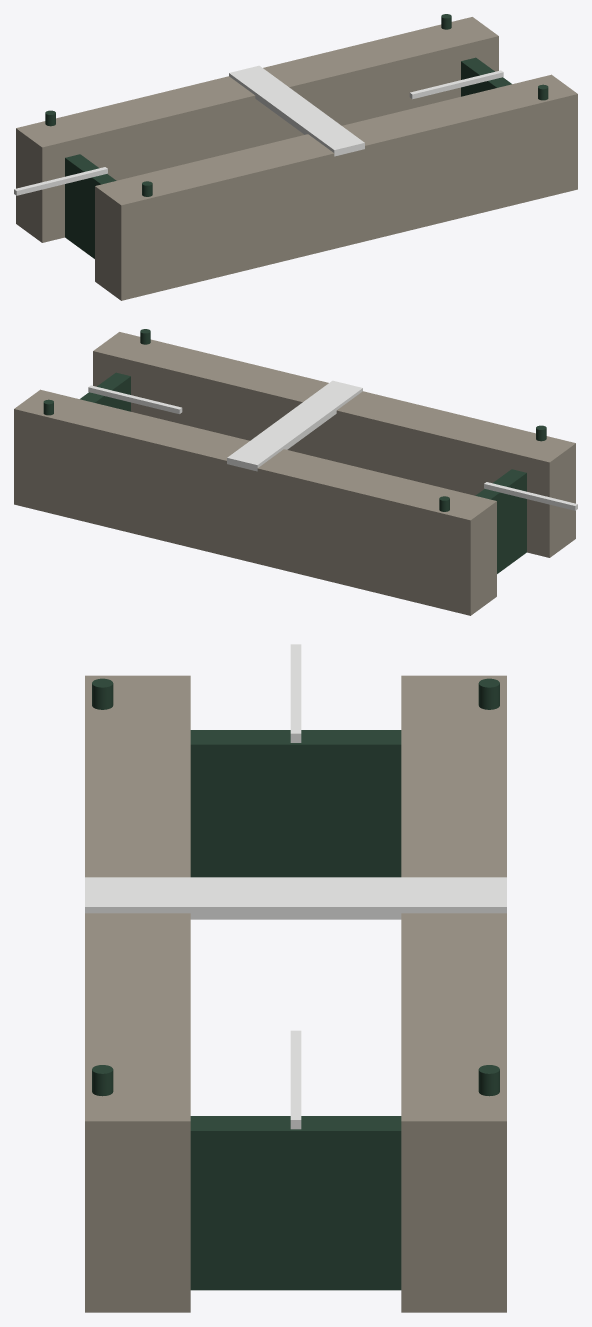
File: d-nl-04-canal-lock.glb
3 renders of one model, top to bottom at view 1: azimuth 30°, elevation 25°; view 2: azimuth 150°, elevation 25°; view 3: azimuth 270°, elevation 25°, orthographic. The views are drawn at different scales.
Parts seen in each view (by area): view 1: part0, part1, part6, part2, part4, part5, part3; view 2: part1, part0, part6, part2, part4, part5, part3; view 3: part0, part1, part4, part2, part6, part5, part3.
Part boxes in pixels (x1=…): part0: x1=95, y1=74, x2=577, y2=300; part1: x1=16, y1=17, x2=498, y2=242; part6: x1=229, y1=65, x2=364, y2=156; part2: x1=65, y1=154, x2=116, y2=258; part4: x1=461, y1=57, x2=511, y2=96; part5: x1=409, y1=70, x2=503, y2=99; part3: x1=14, y1=167, x2=107, y2=195; part1: x1=14, y1=389, x2=496, y2=615; part0: x1=93, y1=332, x2=575, y2=557; part6: x1=227, y1=380, x2=362, y2=471; part2: x1=475, y1=469, x2=526, y2=573; part4: x1=80, y1=372, x2=130, y2=411; part5: x1=88, y1=385, x2=182, y2=414; part3: x1=484, y1=482, x2=577, y2=510; part0: x1=85, y1=675, x2=190, y2=1312; part1: x1=401, y1=675, x2=506, y2=1312; part4: x1=190, y1=1116, x2=401, y2=1290; part2: x1=190, y1=730, x2=401, y2=877; part6: x1=85, y1=877, x2=506, y2=919; part5: x1=290, y1=1030, x2=301, y2=1129; part3: x1=290, y1=644, x2=301, y2=742.
Size of the model in its own units: 33500 by 6700 by 12000.
